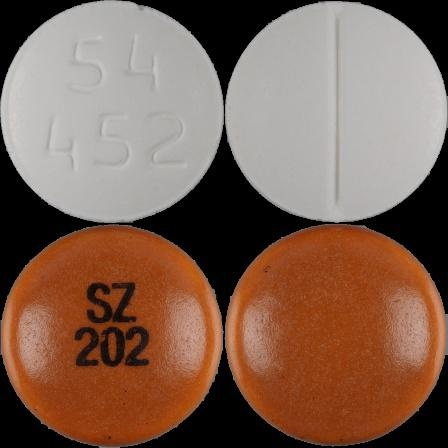52125-282: (0, 0, 224, 224)
